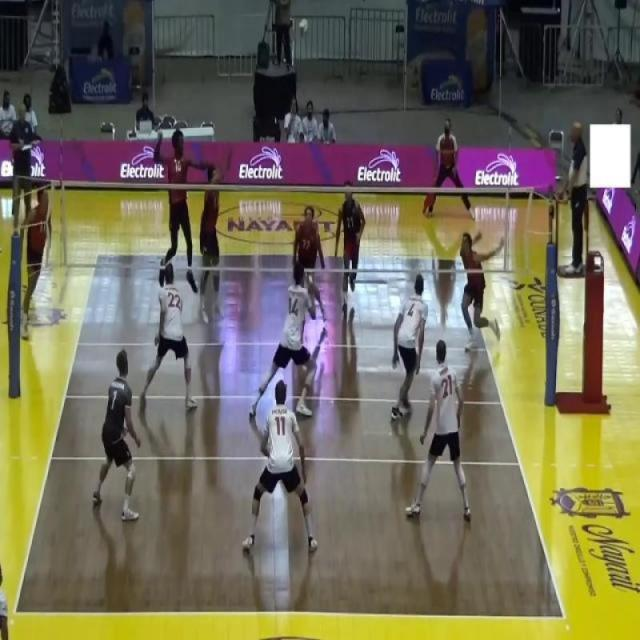volleyball: (298, 18, 309, 37)
